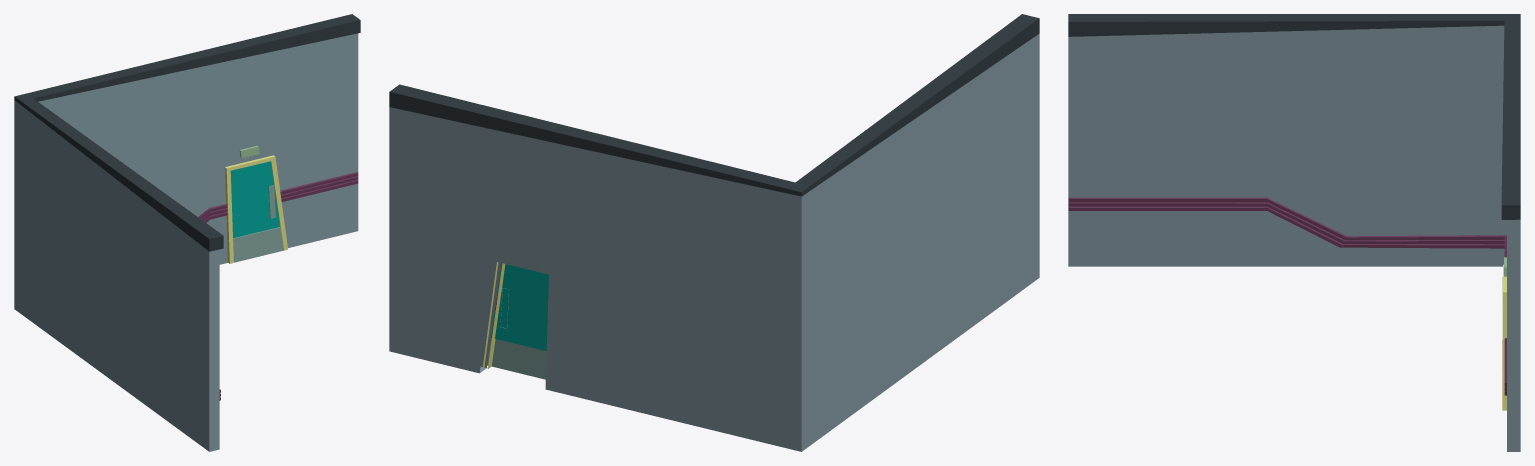
The model's file is Wall_Level1.fbx.
3 renders of one model, left to right at view 1: azimuth 30°, elevation 25°; view 2: azimuth 150°, elevation 25°; view 3: azimuth 270°, elevation 25°, orthographic. The views are drawn at different scales.
Parts seen in each view (by area): view 1: polySurface227, polySurface226, polySurface229, polySurface225, polySurface220; view 2: polySurface226, polySurface227, polySurface229, polySurface225; view 3: polySurface227, polySurface226, polySurface219, polySurface225.
Part boxes in pixels (x1=…): polySurface227: x1=14, y1=96, x2=223, y2=451; polySurface226: x1=15, y1=14, x2=360, y2=264; polySurface229: x1=230, y1=161, x2=283, y2=262; polySurface225: x1=225, y1=155, x2=287, y2=263; polySurface220: x1=198, y1=172, x2=358, y2=222; polySurface226: x1=389, y1=84, x2=801, y2=451; polySurface227: x1=795, y1=14, x2=1039, y2=451; polySurface229: x1=487, y1=263, x2=548, y2=379; polySurface225: x1=482, y1=262, x2=505, y2=368; polySurface227: x1=1068, y1=14, x2=1519, y2=266; polySurface226: x1=1501, y1=14, x2=1520, y2=451; polySurface219: x1=1068, y1=197, x2=1505, y2=248; polySurface225: x1=1502, y1=264, x2=1506, y2=410.
Bounding box in the file's own units: 659 × 397 × 659.
